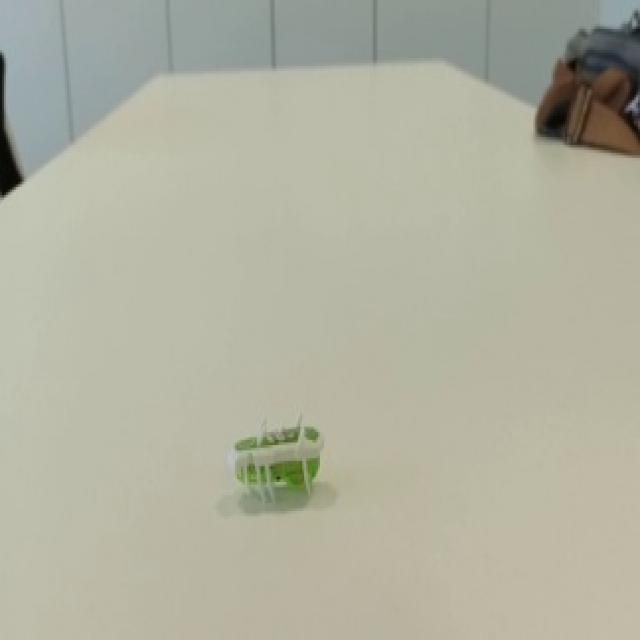4_NanoBug_Blanco: (194, 384, 376, 537)
